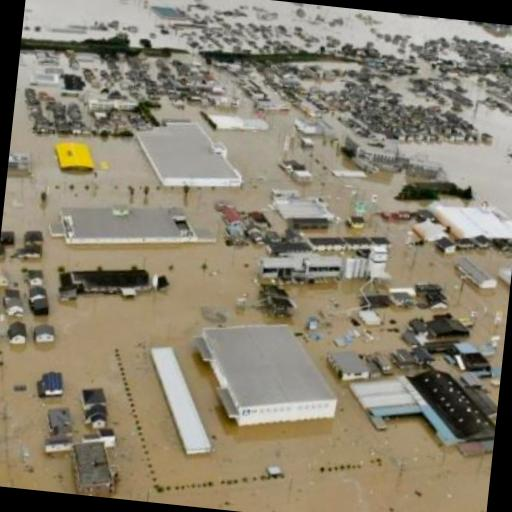flood: (0, 54, 512, 512), (22, 0, 512, 61), (373, 55, 512, 217), (347, 308, 435, 356), (303, 62, 359, 89), (488, 387, 500, 403)
house: (190, 312, 352, 440), (50, 192, 212, 272), (127, 114, 246, 198), (144, 345, 224, 448), (404, 368, 500, 450), (67, 437, 119, 497), (268, 190, 340, 232), (264, 250, 344, 286), (346, 135, 402, 168), (456, 257, 500, 293), (44, 405, 78, 442), (203, 112, 247, 134), (36, 366, 64, 398), (310, 234, 347, 256), (80, 386, 110, 412), (5, 321, 29, 348), (32, 324, 56, 348), (3, 294, 26, 318), (346, 234, 372, 252), (370, 234, 392, 252), (436, 238, 458, 256), (27, 268, 46, 286)
